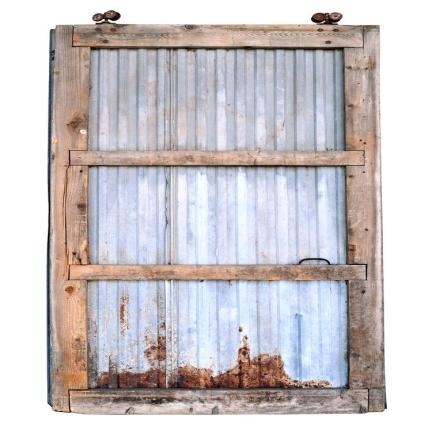karat: (97, 348, 327, 389)
